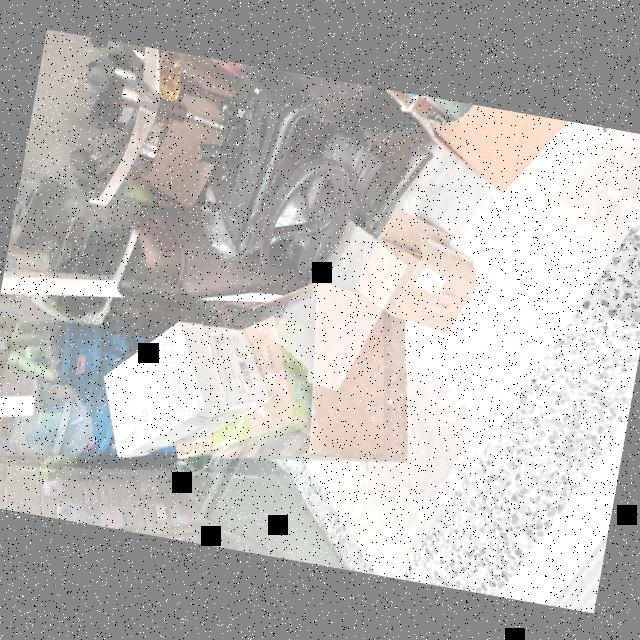cardboard_box: (216, 266, 434, 491), (79, 301, 278, 484), (367, 88, 562, 206), (340, 188, 490, 339)
